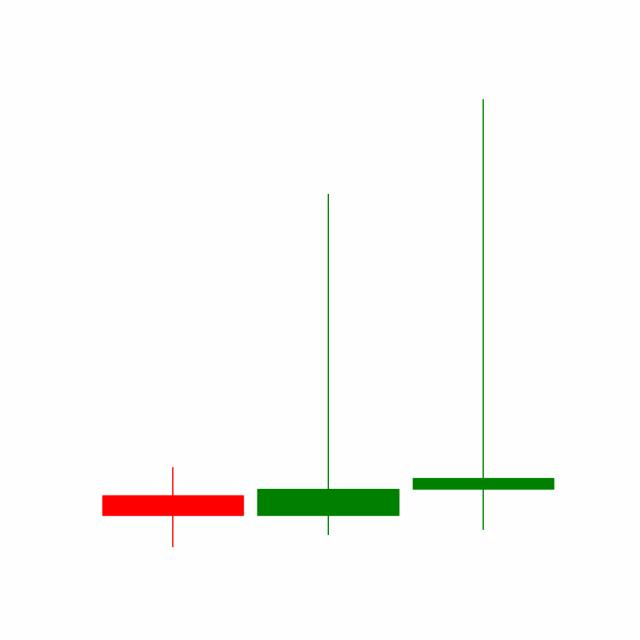Spinning Top: (405, 93, 561, 534)
